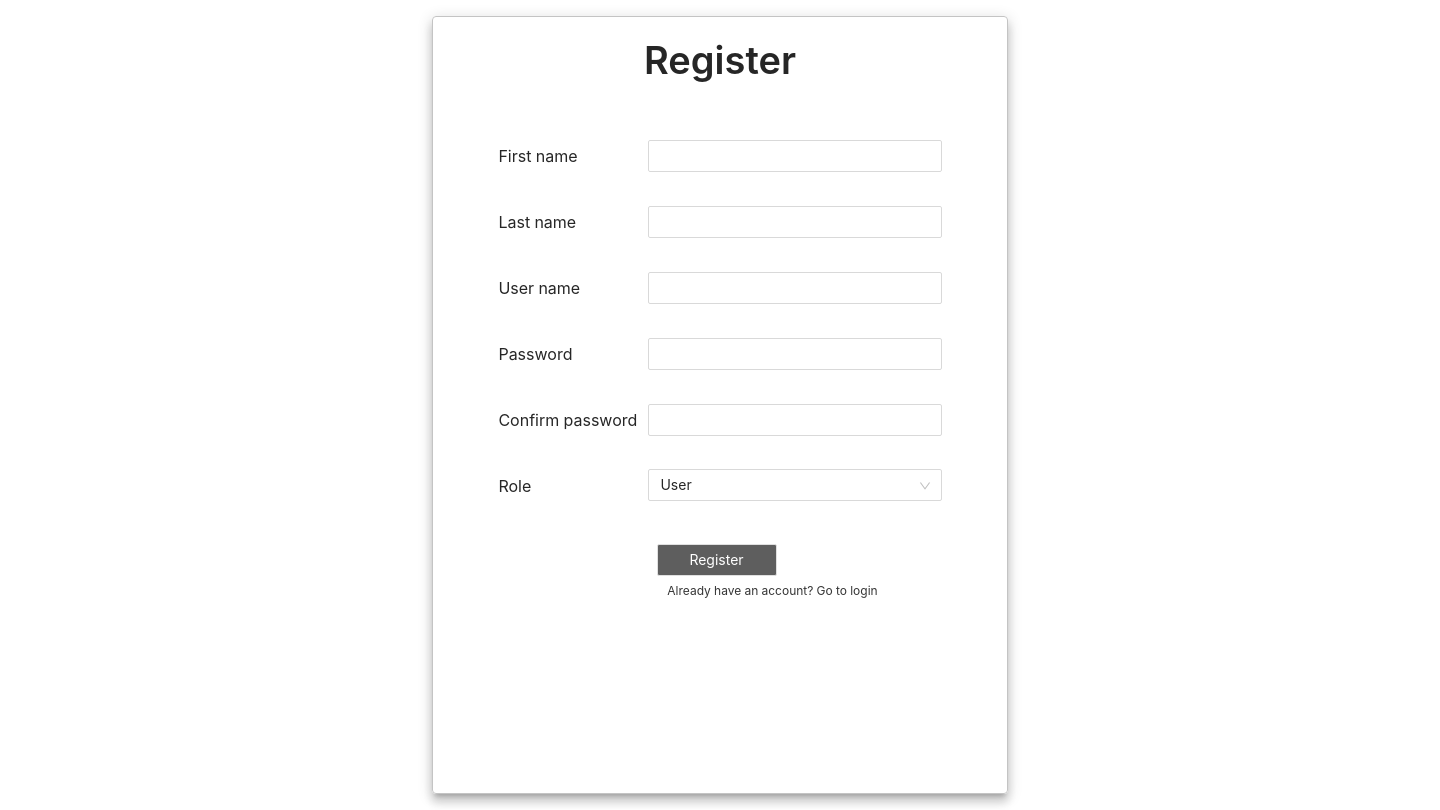
render of alert › when user does not exist › alert should render
Type "Ankit" into the field with test id "first-name" at coordinates (795, 156), box [648, 140, 942, 172]
Type "Kumar" into the field with test id "last-name" at coordinates (795, 222), box [648, 206, 942, 238]
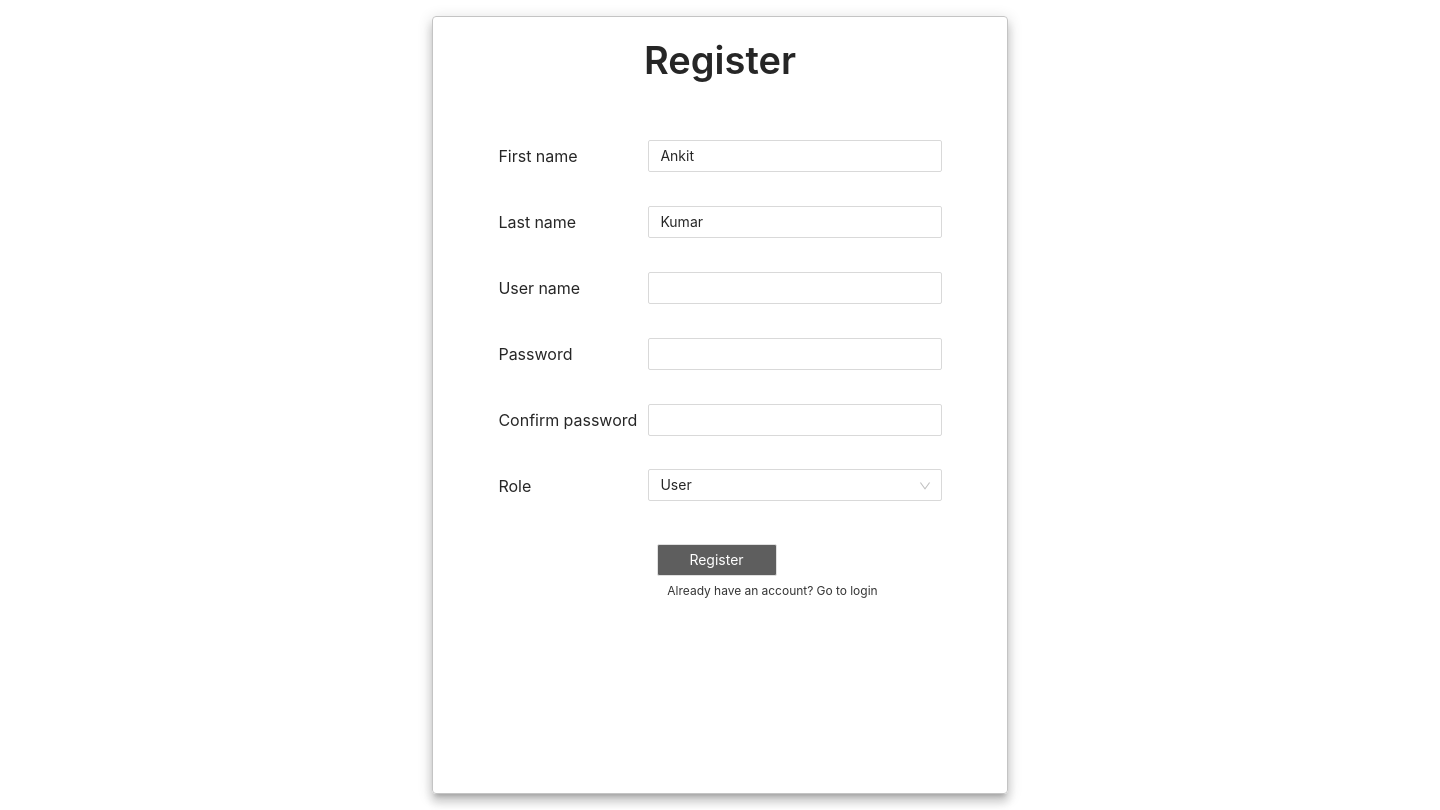
Type "ankit" into the field with test id "user-name" at coordinates (795, 288), box [648, 272, 942, 304]
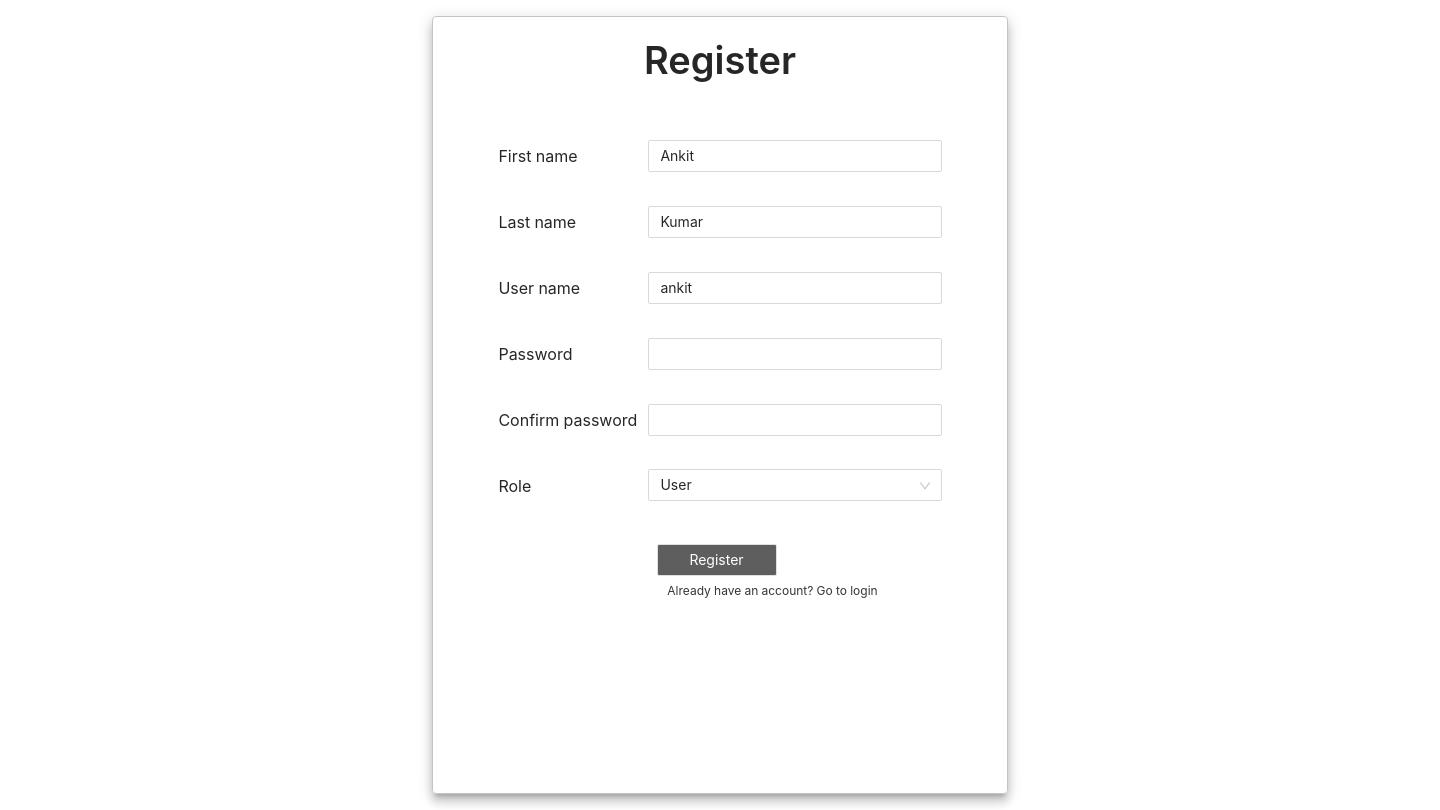
Type "welcome@123" into the password field with test id "password" at coordinates (795, 354), box [648, 338, 942, 370]
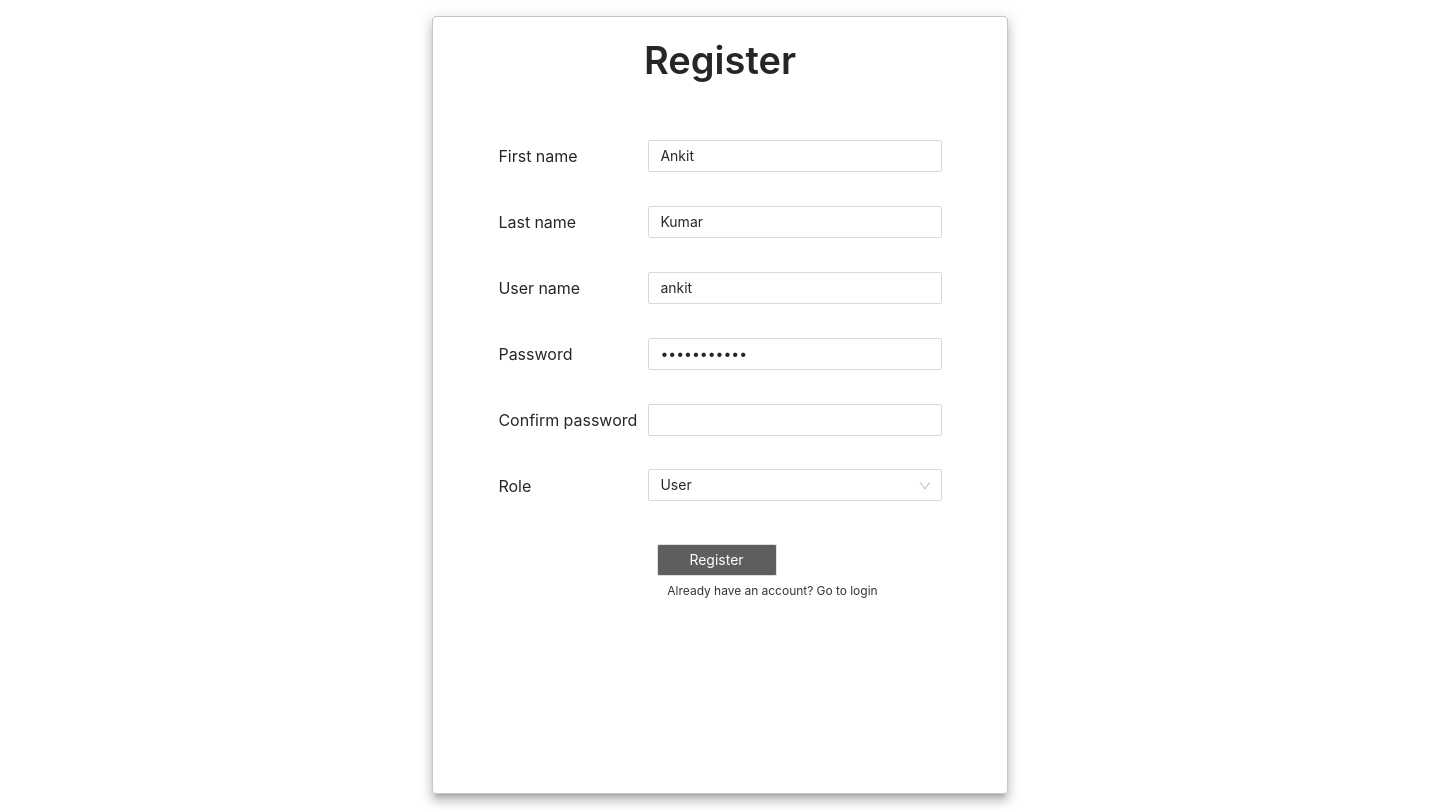
Type "welcome@123" into the password field with test id "confirm-password" at coordinates (795, 420), box [648, 404, 942, 436]
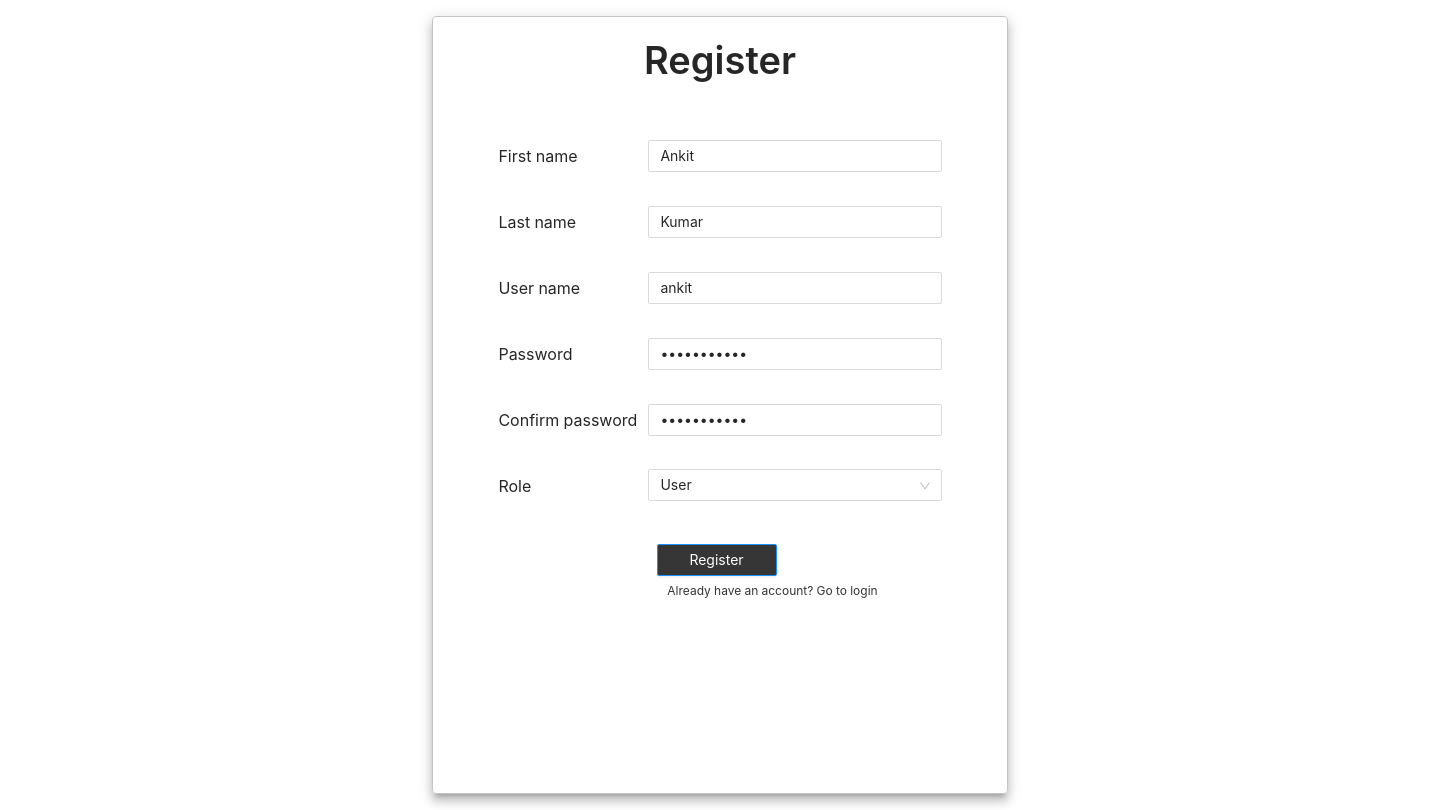
Replace the text in the dropdown labelled "User" with "user" at coordinates (795, 485), box [648, 469, 942, 501]
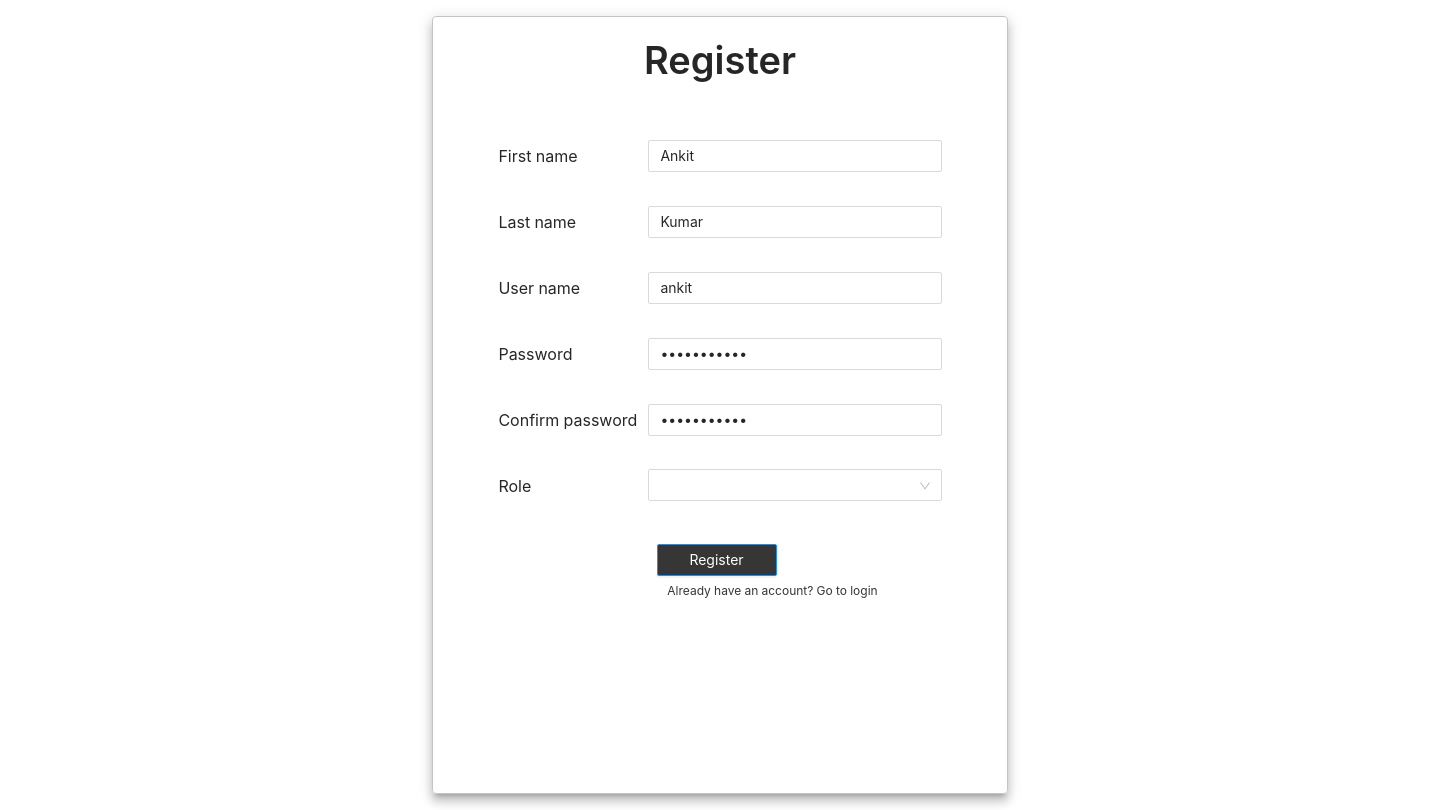
Click the button with test id "register-button" at coordinates (716, 560), box [656, 544, 776, 576]
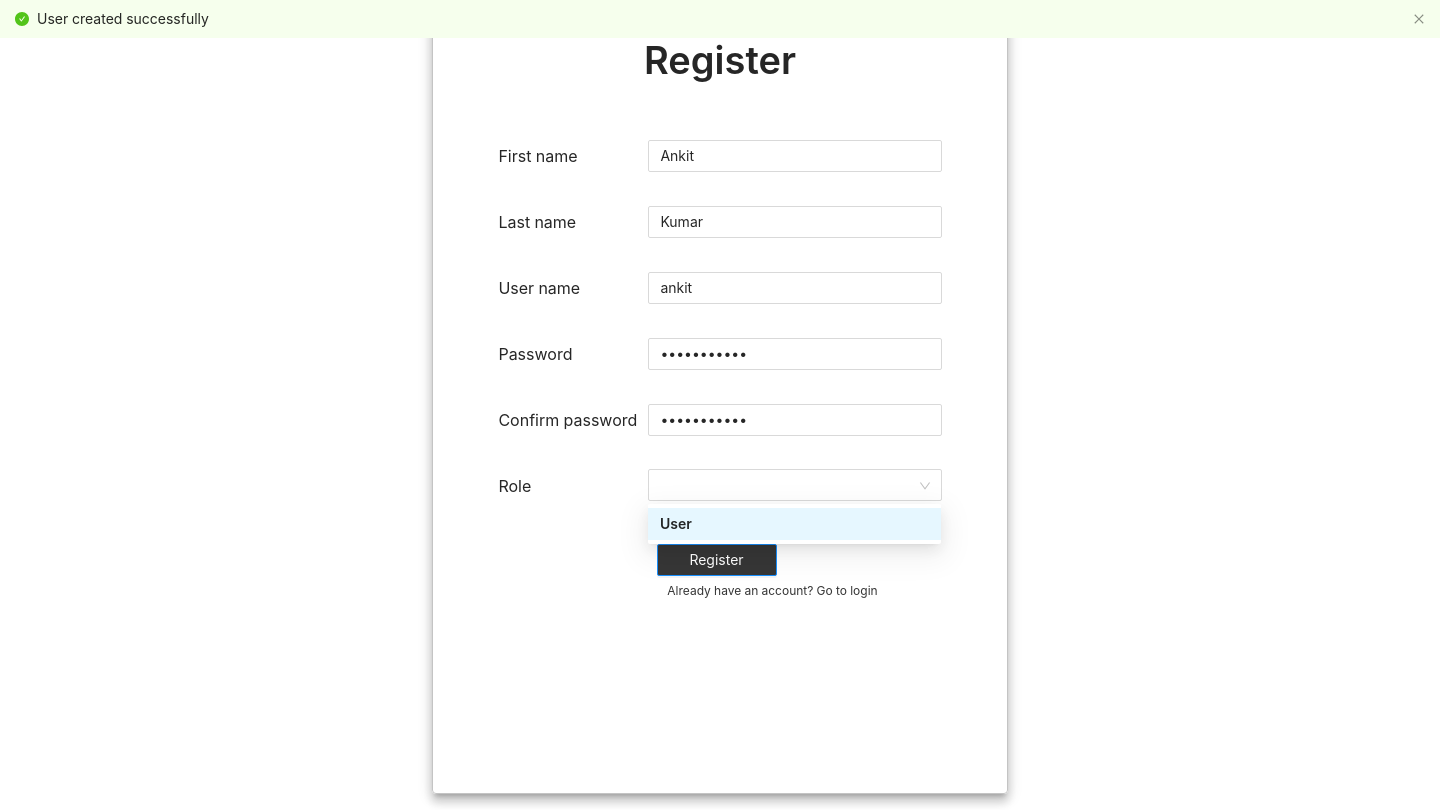
Result: the message "User created successfully" is shown at [0, 0, 1439, 38]
